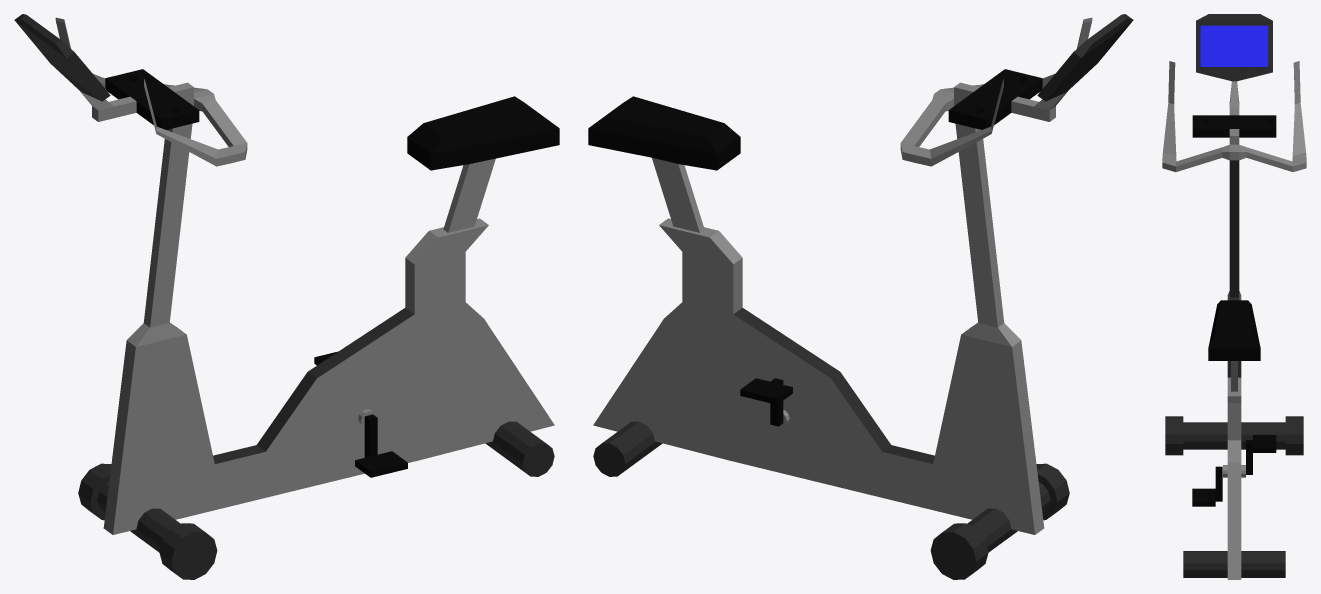
The model's file is ExerciseBike.fbx.
3 views of the same model, side by side, from view 1: azimuth 30°, elevation 25°; view 2: azimuth 150°, elevation 25°; view 3: azimuth 270°, elevation 25° (orthographic). The views are drawn at different scales.
Visible parts, largest first — view 1: ExerciseBike; view 2: ExerciseBike; view 3: ExerciseBike.
Part boxes in pixels (<box>): ExerciseBike: <box>14,14,559,579</box>; ExerciseBike: <box>588,14,1133,579</box>; ExerciseBike: <box>1162,14,1306,579</box>.
Size of the model in its own units: 134 by 136 by 44.11.
